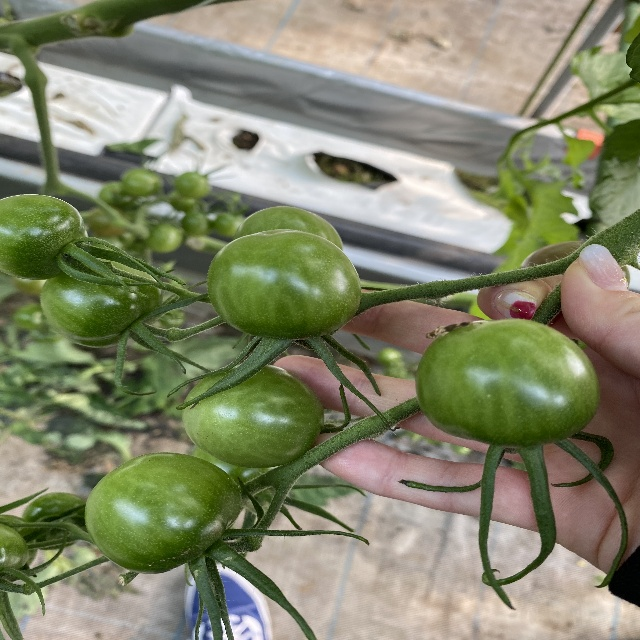l_green: (414, 318, 602, 448), (83, 452, 243, 574), (207, 229, 362, 340), (183, 364, 325, 467), (38, 267, 164, 349), (0, 194, 90, 281), (231, 206, 342, 250), (21, 491, 88, 551)
